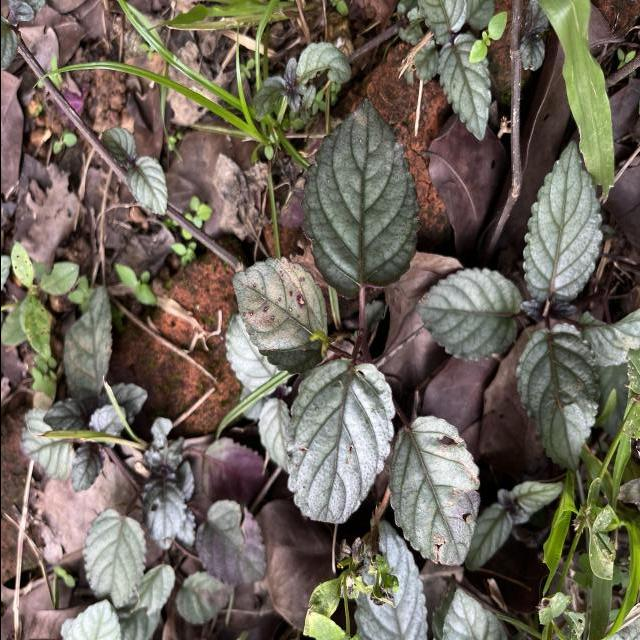Hemigraphis colorata: (296, 92, 421, 302), (280, 352, 396, 529), (382, 414, 482, 568), (518, 138, 604, 306), (512, 320, 602, 480), (227, 252, 330, 378), (409, 264, 526, 366), (433, 32, 492, 145), (125, 154, 168, 218)
